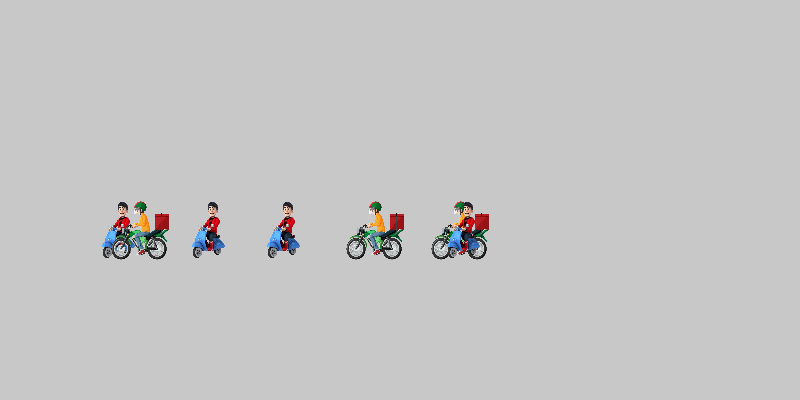helmet: (110, 200, 170, 260), (345, 200, 405, 260), (430, 200, 490, 260)
no_helmet: (90, 200, 150, 260), (180, 200, 240, 260), (255, 200, 315, 260), (435, 200, 495, 260)
